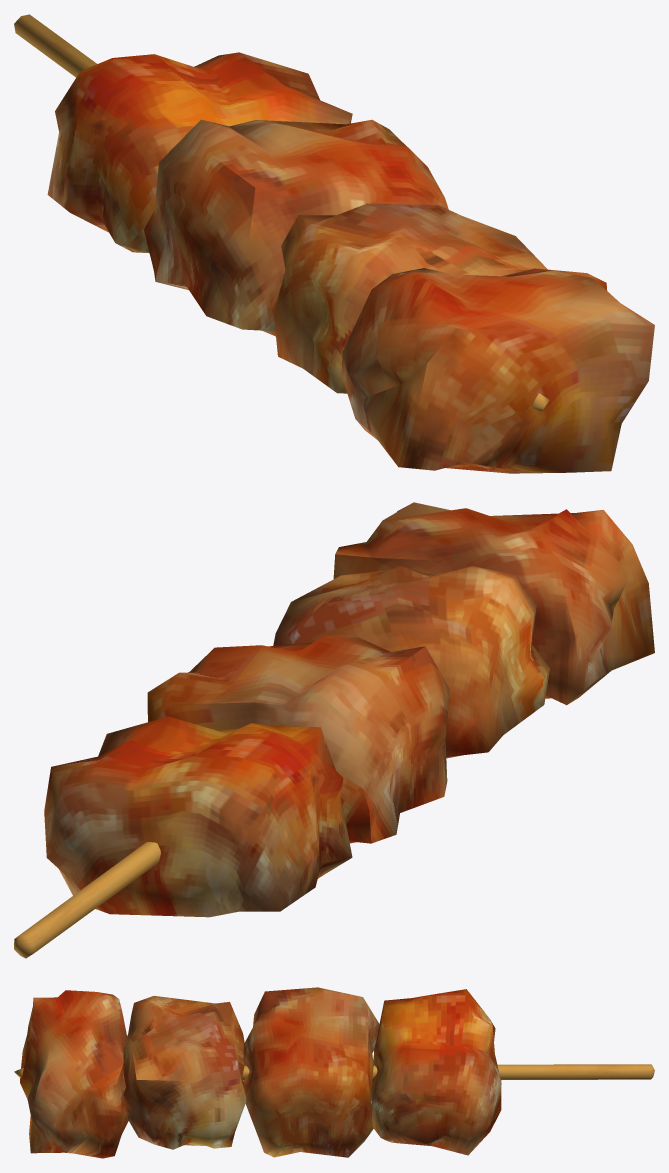
File: ref_bbqskewers2.fbx
3 renders of one model, top to bottom at view 1: azimuth 30°, elevation 25°; view 2: azimuth 150°, elevation 25°; view 3: azimuth 270°, elevation 25°, orthographic. The views are drawn at different scales.
Visible parts, largest first — view 1: ref_bbqskewers2; view 2: ref_bbqskewers2; view 3: ref_bbqskewers2.
Part boxes in pixels (left/top/right/bottom): ref_bbqskewers2: left=14, top=14, right=654, bottom=473; ref_bbqskewers2: left=14, top=502, right=654, bottom=958; ref_bbqskewers2: left=14, top=987, right=654, bottom=1158.
Bounding box in the file's own units: 29.49 × 22.17 × 100.
Materials: 1 (1 with a texture image).
